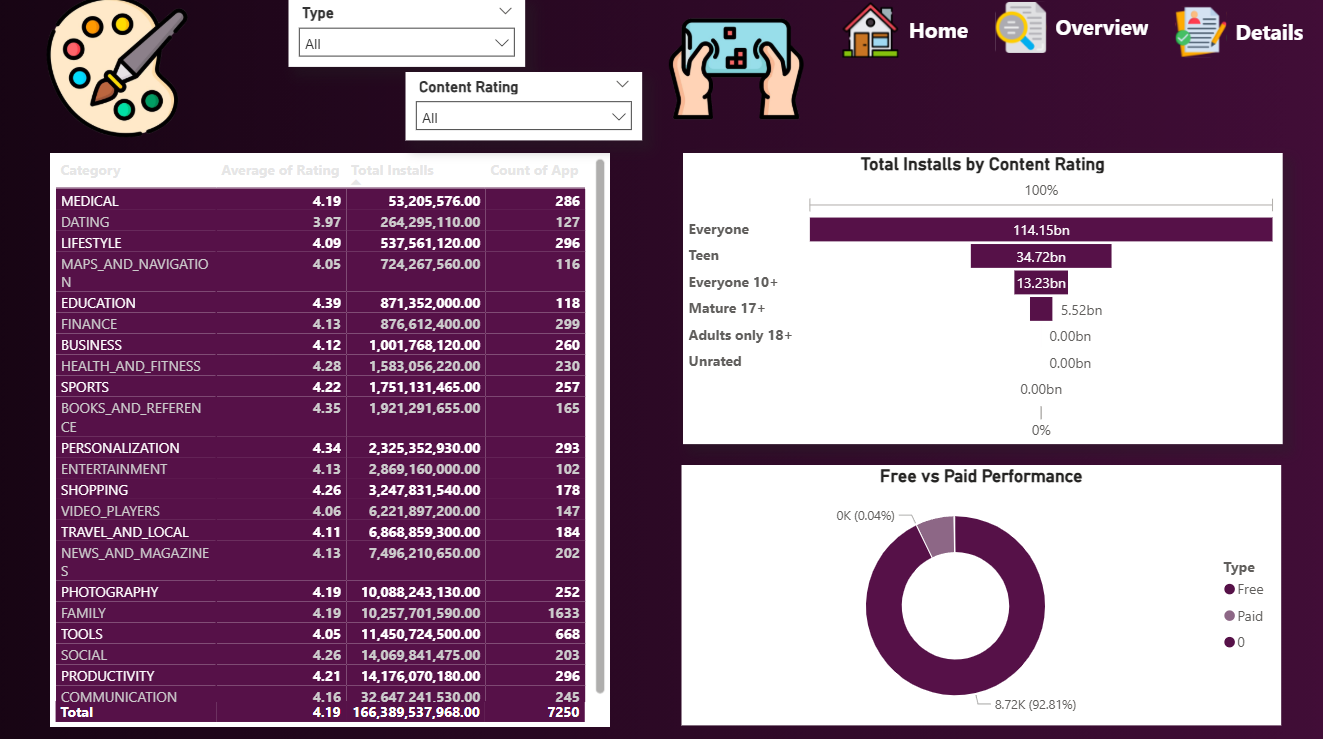

The dashboard page shown, as its layout file describes it:
{"tool":"powerbi","page":{"name":"Details","canvas":[1280,720],"ordinal":2},"visuals":[{"type":"actionButton","box":[1118.7,0,146.1,80.2],"z":0},{"type":"actionButton","box":[946.6,0,172.4,74.8],"z":1000},{"type":"actionButton","box":[799.3,0,149,75.9],"z":2000},{"type":"funnel","fields":{"Category":["googleplaystore.Content Rating"],"Y":["googleplaystore.Total Installs"]},"box":[661.4,156.9,572.6,277.8],"z":3000},{"type":"donutChart","title":"Free vs Paid Performance","fields":{"Y":["CountNonNull(googleplaystore.Last Updated)","Avg(googleplaystore.Rating)"],"Category":["googleplaystore.Type"]},"box":[660.4,455.4,572.5,248.9],"z":4000},{"type":"pivotTable","fields":{"Rows":["googleplaystore.Category"],"Values":["Avg(googleplaystore.Rating)","googleplaystore.Total Installs","Count(googleplaystore.App)"]},"box":[56.7,156.9,534.8,548],"z":5000},{"type":"slicer","fields":{"Values":["googleplaystore.Type"]},"box":[284.6,9.8,226.1,65.1],"z":6000},{"type":"slicer","fields":{"Values":["googleplaystore.Content Rating"]},"box":[396.9,79.7,226.1,65.1],"z":7000},{"type":"image","box":[623,22.8,204.9,102.5],"z":8000},{"type":"image","box":[0,6.5,242.4,135],"z":9000}]}

Visuals, with their boxes in screenshot pixels (x1, y1, x2, y2), scaled from the page's 1280x720 canvas onto the 1323x739 screenshot:
actionButton: rect(1156, 0, 1307, 82)
actionButton: rect(978, 0, 1157, 77)
actionButton: rect(826, 0, 980, 78)
funnel - googleplaystore.Content Rating x googleplaystore.Total Installs: rect(684, 161, 1275, 446)
"Free vs Paid Performance" donutChart: rect(683, 467, 1274, 723)
pivotTable - googleplaystore.Category x Avg(googleplaystore.Rating): rect(59, 161, 611, 724)
slicer - googleplaystore.Type: rect(294, 10, 528, 77)
slicer - googleplaystore.Content Rating: rect(410, 82, 644, 149)
image: rect(644, 23, 856, 129)
image: rect(0, 7, 251, 145)
